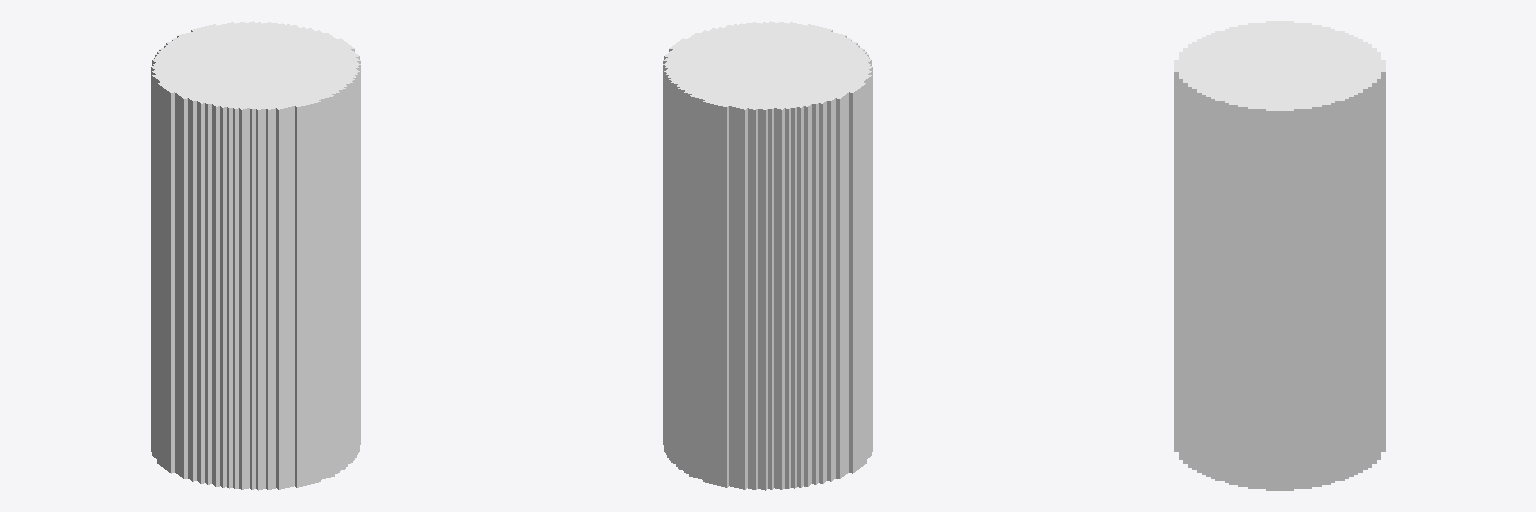
Rendered from trashcanbottom.obj.
3 renders of one model, left to right at view 1: azimuth 30°, elevation 25°; view 2: azimuth 150°, elevation 25°; view 3: azimuth 270°, elevation 25°, orthographic.
Visible parts, largest first — view 1: object 1; view 2: object 1; view 3: object 1.
Part boxes in pixels (left/top/right/bottom): object 1: left=151, top=21, right=360, bottom=490; object 1: left=663, top=21, right=872, bottom=490; object 1: left=1174, top=21, right=1385, bottom=490.
Size of the model in its own units: 4.6 by 9.1 by 4.6.